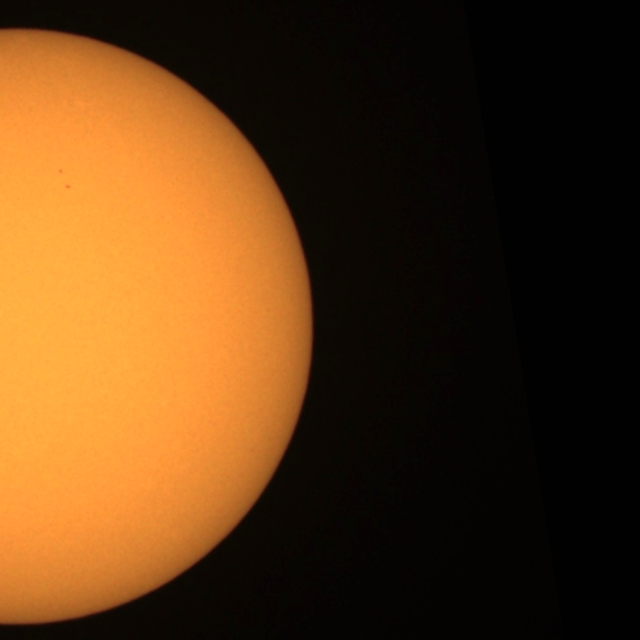sunspot: (60, 178, 72, 192), (64, 184, 72, 191), (58, 168, 64, 174)
